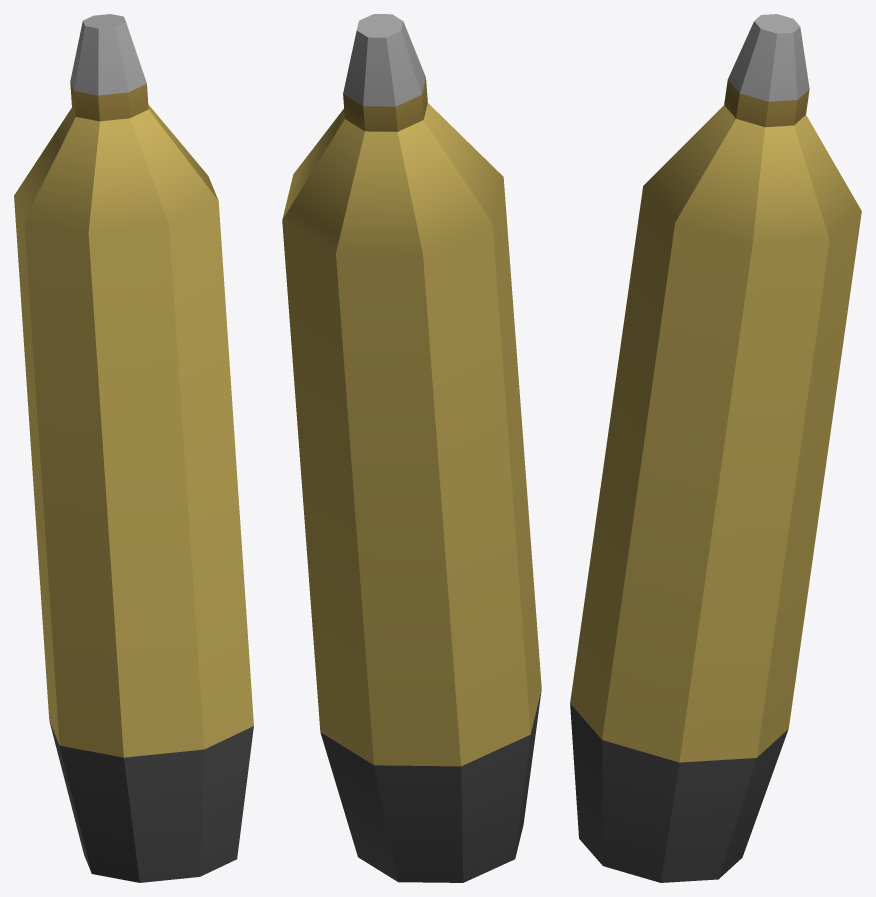
The model's file is OxygenTank.fbx.
3 renders of one model, left to right at view 1: azimuth 30°, elevation 25°; view 2: azimuth 150°, elevation 25°; view 3: azimuth 270°, elevation 25°, orthographic. The views are drawn at different scales.
Visible parts, largest first — view 1: Tank04; view 2: Tank04; view 3: Tank04.
Boxes of the visible parts, box(x1,y1,x2,y2) form: Tank04: box(14, 14, 253, 882); Tank04: box(282, 14, 541, 882); Tank04: box(570, 14, 861, 882).
Bounding box in the file's own units: 14.84 × 62.11 × 19.64.
